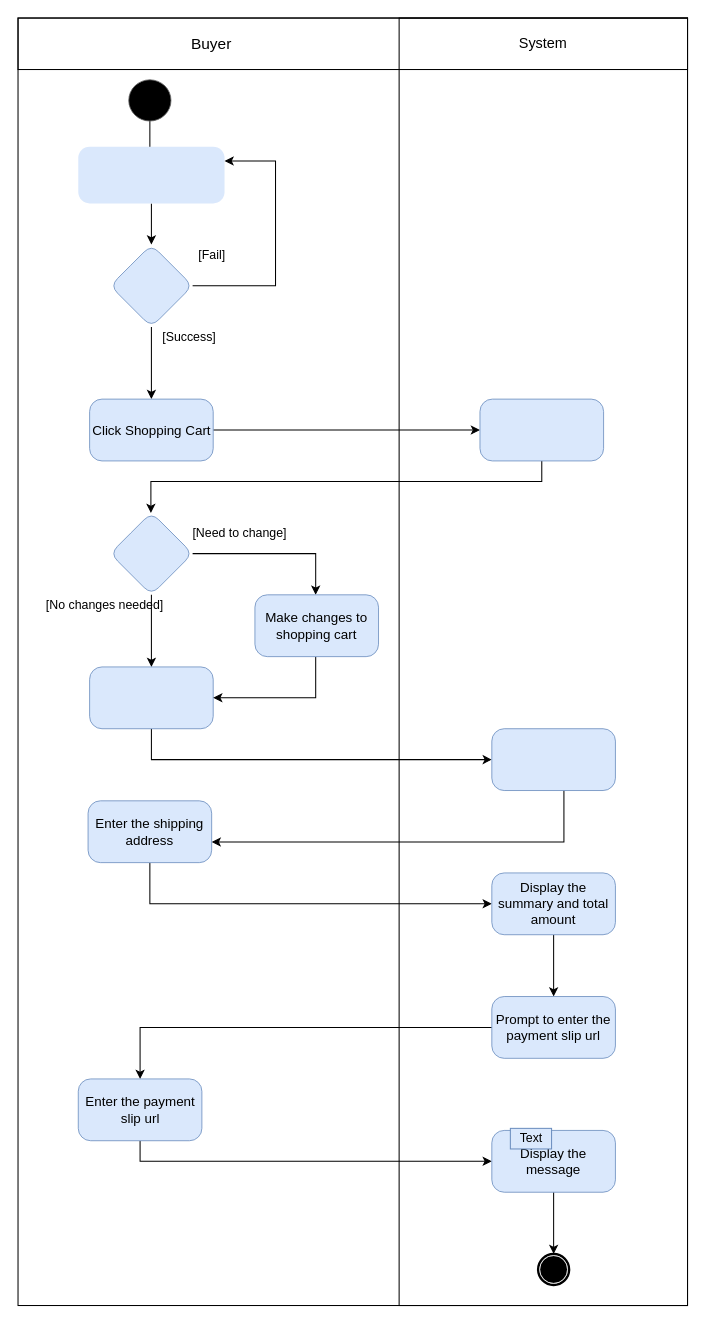
The diagram is 706 pixels wide and 1324 high, and some of its shapes have lost their labels. Each missing label, with the centre of its shape:
Click Place Order Button: the point at 151,697
Display the shopping cart: the point at 541,429
login: the point at 150,174
Prompt to enter the shipping address: the point at 553,759
